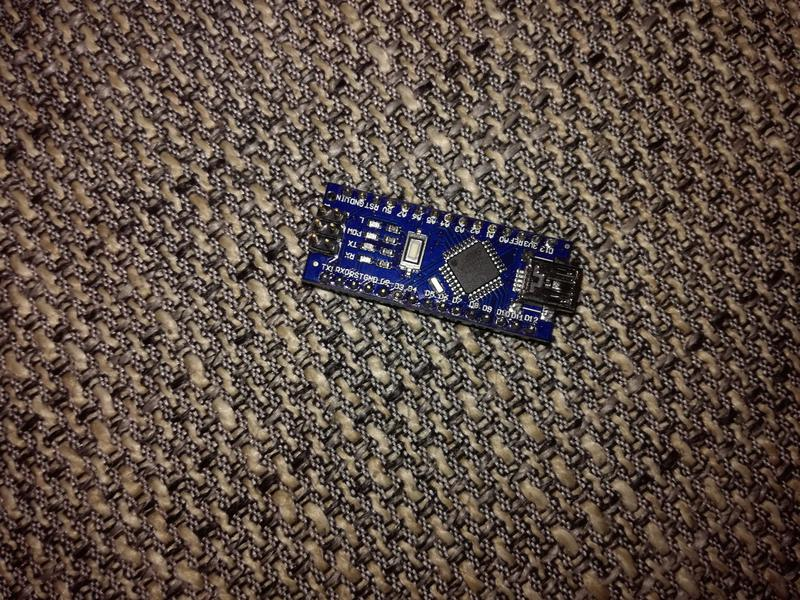Arduino_Nano: (294, 179, 587, 359)
